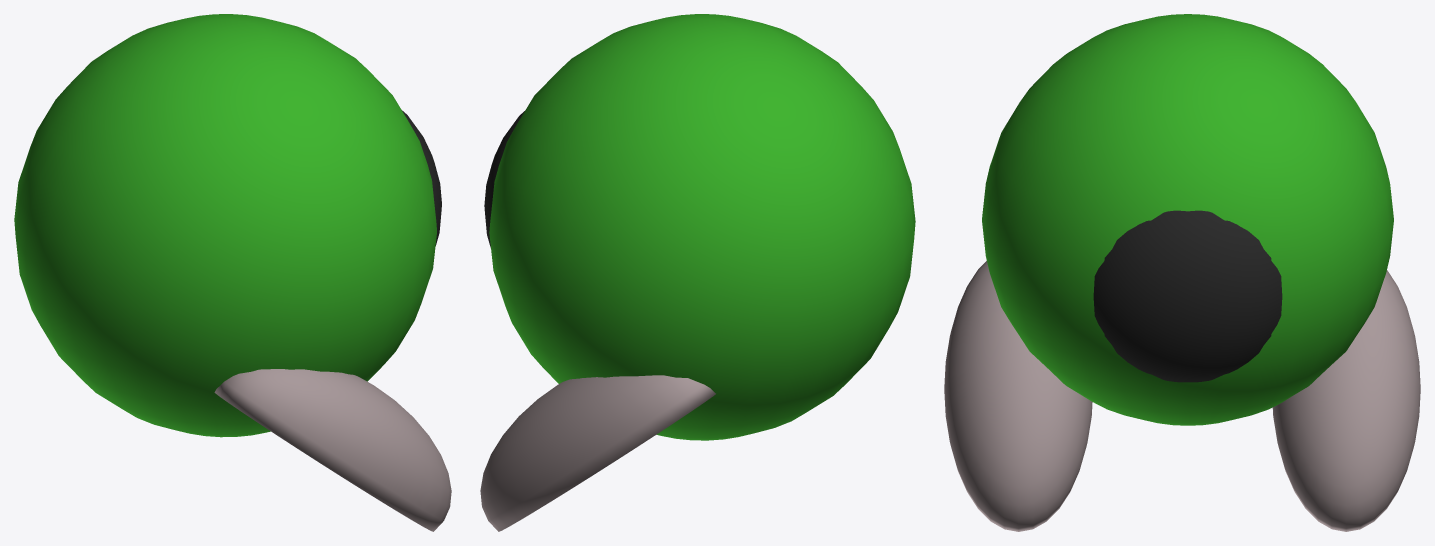
The model's file is TestMonster 1.fbx.
3 renders of one model, left to right at view 1: azimuth 30°, elevation 25°; view 2: azimuth 150°, elevation 25°; view 3: azimuth 270°, elevation 25°, orthographic. The views are drawn at different scales.
Visible parts, largest first — view 1: 球, 球.002; view 2: 球, 球.002; view 3: 球, 球.002.
Part boxes in pixels (x1,y1,x2,y2): 球: [14, 14, 441, 437]; 球.002: [214, 369, 451, 531]; 球: [484, 14, 915, 440]; 球.002: [480, 375, 715, 531]; 球: [982, 14, 1393, 425]; 球.002: [944, 261, 1420, 531].
Size of the model in its own units: 207 by 238 by 231.
